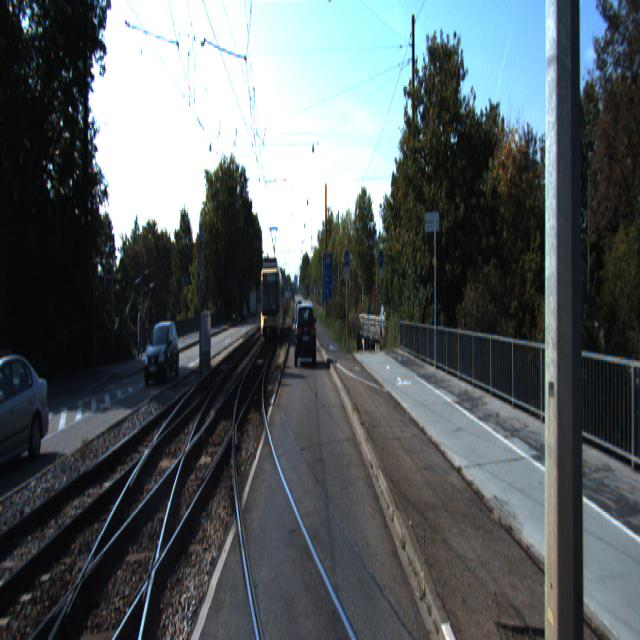Car: (0, 334, 58, 472), (142, 321, 182, 387), (258, 256, 284, 348), (296, 302, 316, 367)
